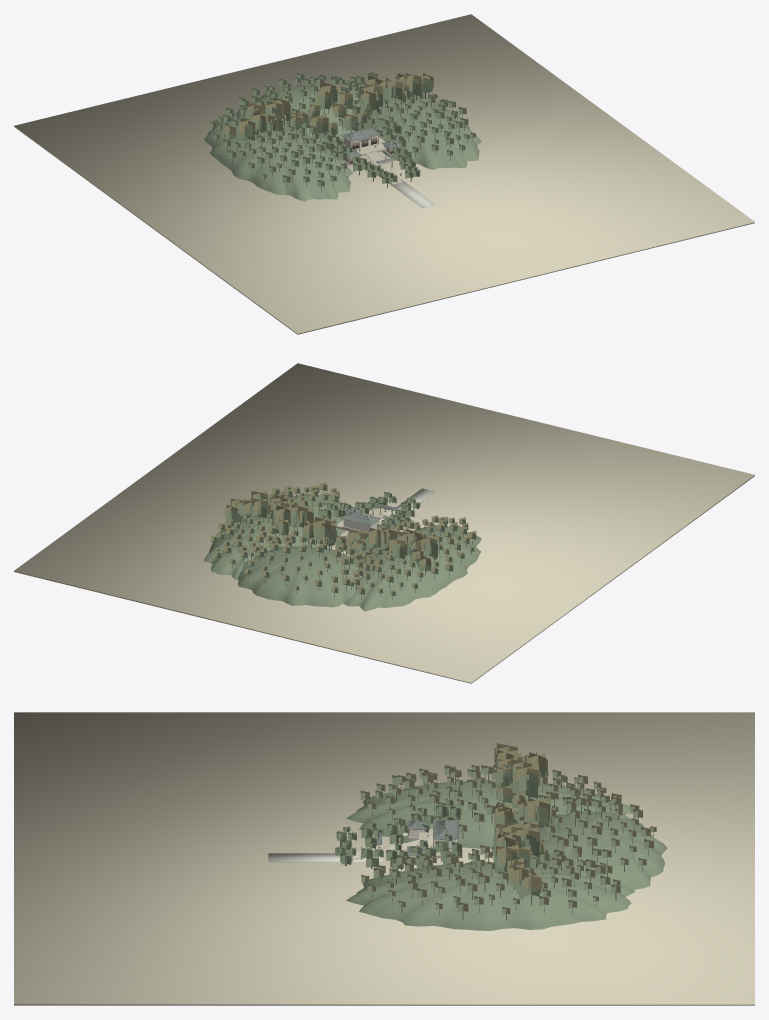
The model's file is wansong.glb.
3 views of the same model, one above another, from view 1: azimuth 30°, elevation 25°; view 2: azimuth 150°, elevation 25°; view 3: azimuth 270°, elevation 25° (orthographic). The views are drawn at different scales.
Visible parts, largest first — view 1: sand, earth, crown1, crown0, crown2, bark; view 2: sand, earth, crown2, crown0, crown1, bark; view 3: sand, earth, crown2, crown1, crown0, bark, paving, roof, ridge.
Part boxes in pixels (x1,y1,x2,y2): sand: (14,14,754,334); earth: (204,85,481,201); crown1: (210,72,475,186); crown0: (210,73,475,186); crown2: (223,72,447,179); bark: (213,77,473,191); sand: (14,363,754,683); earth: (203,493,481,611); crown2: (210,482,476,594); crown0: (212,483,476,595); crown1: (225,492,438,568); bark: (213,487,472,599); sand: (14,712,754,1005); earth: (346,779,666,930); crown2: (360,743,656,914); crown1: (336,748,656,914); crown0: (335,751,548,897); bark: (343,768,653,920); paving: (268,853,383,862); roof: (377,819,458,855); ridge: (377,818,458,854).
Size of the model in its own units: 270 by 26.84 by 290.
